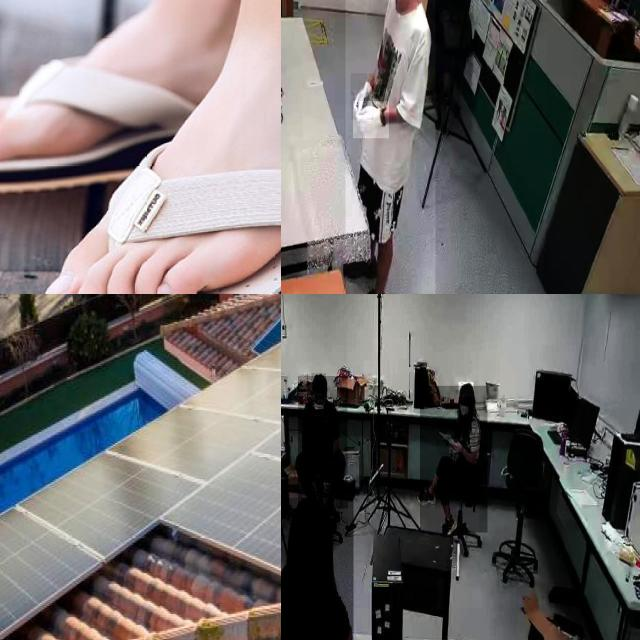Sandals: (10, 73, 281, 294)
face_mask: (459, 398, 471, 419)
hand_glove: (353, 101, 389, 139), (350, 74, 374, 120)
hand_noglove: (450, 439, 462, 454)
head_nohelmet: (288, 498, 329, 526), (458, 382, 474, 398), (312, 374, 326, 389)
person: (345, 0, 436, 294), (281, 484, 354, 640), (420, 386, 488, 533), (298, 376, 348, 508)
shoes: (414, 486, 438, 510), (348, 282, 391, 294), (440, 512, 457, 540)
